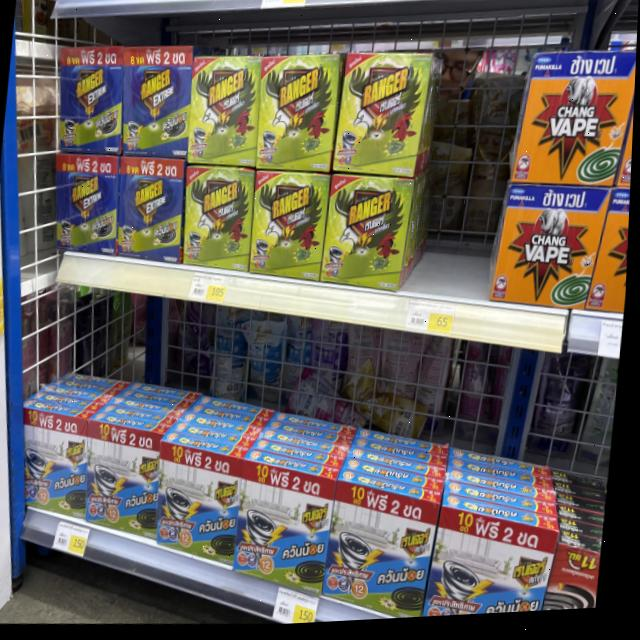empty_shelf: (414, 40, 515, 303)
